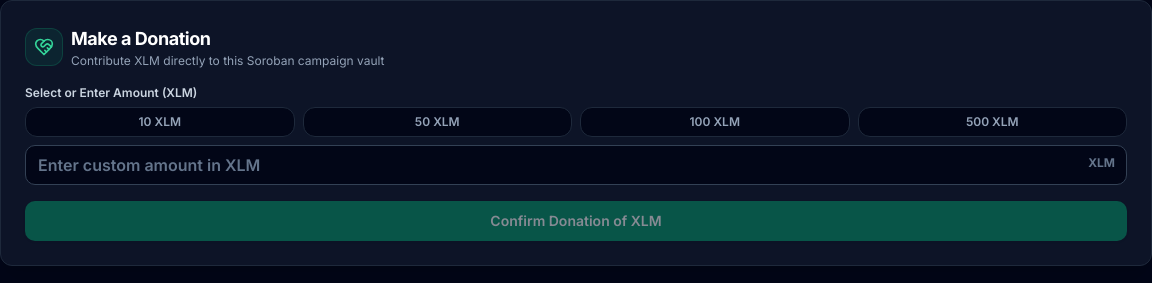
Test: Donation Flow Integration › updates input field when preset donation amount buttons are clicked
Click the button "50 XLM": (437, 122) 302,107 -> 572,137
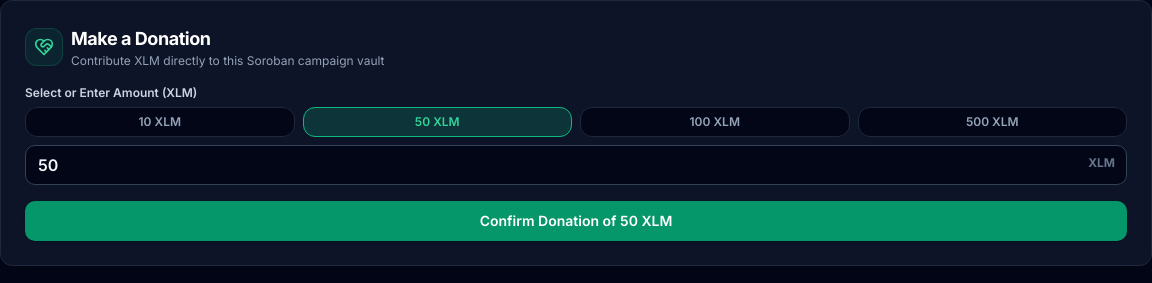
Check: the number field with placeholder "Enter custom amount in XLM" holds "50", box 25,145 -> 1127,185
